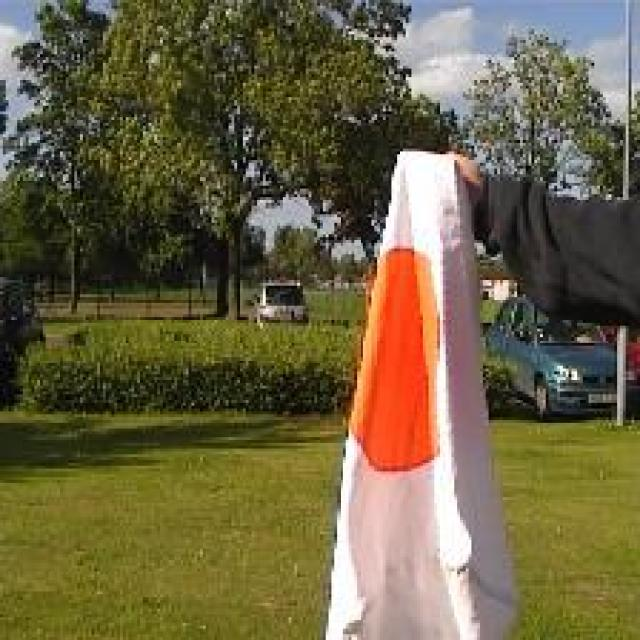other: (334, 248, 466, 500)
